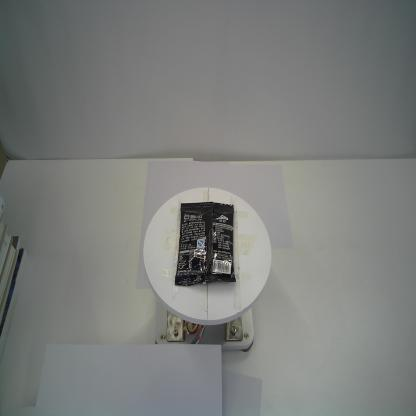Instant Drink: (174, 201, 237, 287)
